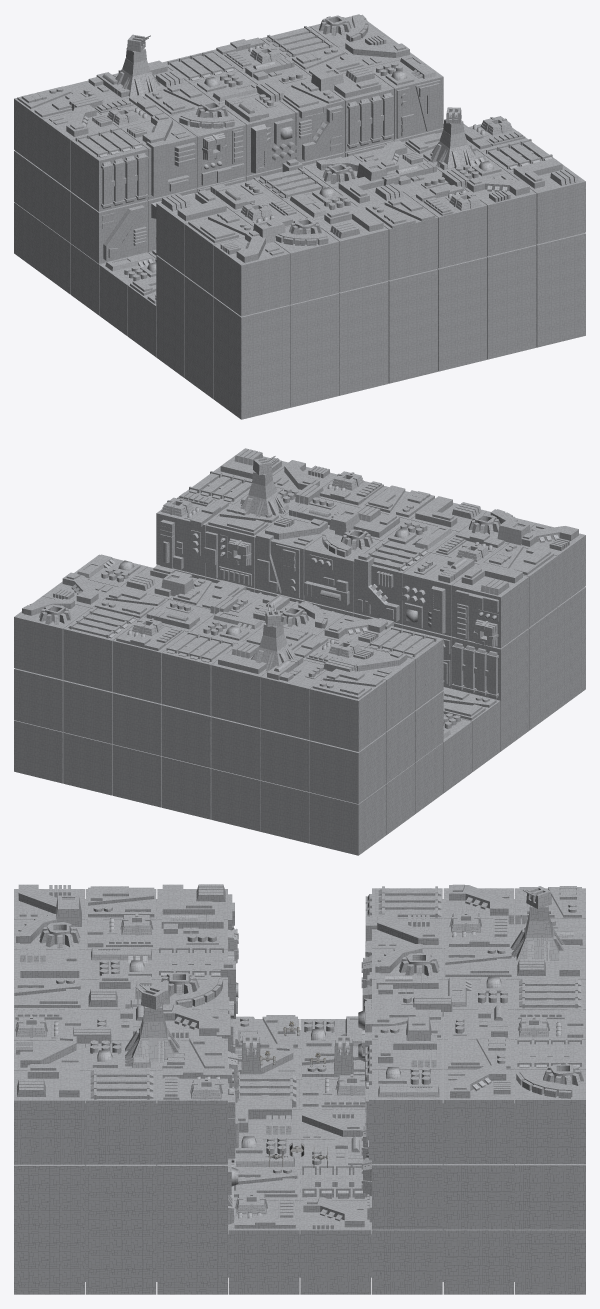
File: trench.glb
3 renders of one model, top to bottom at view 1: azimuth 30°, elevation 25°; view 2: azimuth 150°, elevation 25°; view 3: azimuth 270°, elevation 25°, orthographic. The views are drawn at different scales.
Parts seen in each view (by area): view 1: DeathStarTrench; view 2: DeathStarTrench (×2); view 3: DeathStarTrench.
Boxes of the visible parts, x1=… form: DeathStarTrench: x1=14, y1=14, x2=585, y2=419; DeathStarTrench (×2): x1=14, y1=448, x2=585, y2=855; DeathStarTrench: x1=14, y1=884, x2=585, y2=1294.
Bounding box in the file's own units: 24.71 × 14.2 × 28.25.
Materials: 12 (5 with a texture image).
